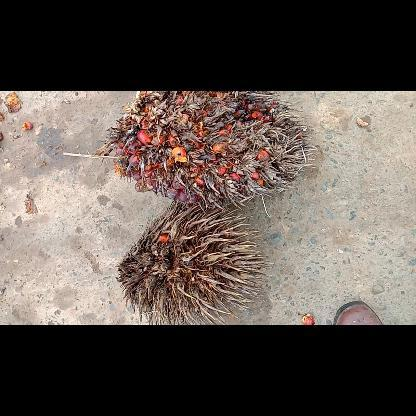Janjang kosong: (117, 202, 273, 324)
Terlalu masak: (66, 90, 314, 212)
